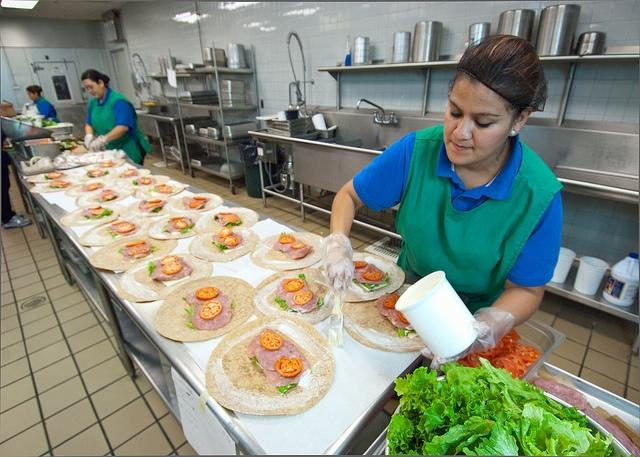lettuce: (422, 416, 496, 456), (393, 366, 447, 420), (548, 420, 590, 454), (474, 424, 518, 456), (497, 382, 522, 416), (441, 379, 476, 402), (118, 246, 159, 261), (521, 402, 544, 426), (468, 398, 489, 416), (274, 296, 294, 311), (84, 210, 113, 220), (278, 384, 296, 395), (398, 328, 417, 337), (178, 224, 194, 234), (252, 356, 263, 370), (212, 241, 228, 250), (360, 283, 376, 292), (99, 196, 118, 203), (183, 304, 194, 316), (42, 120, 58, 128), (299, 274, 308, 287), (315, 296, 324, 308), (225, 221, 242, 227), (184, 322, 195, 330), (148, 262, 154, 276), (87, 172, 95, 178), (111, 232, 117, 238), (153, 207, 160, 212), (50, 186, 66, 188), (197, 206, 204, 210), (214, 216, 219, 221), (132, 181, 138, 185), (281, 231, 285, 236)
tomato: (502, 352, 528, 378), (511, 343, 541, 364), (491, 357, 519, 379), (274, 356, 302, 377), (199, 300, 223, 320), (260, 330, 283, 350), (196, 286, 218, 300), (501, 328, 521, 343), (362, 268, 383, 282), (293, 291, 313, 305), (284, 278, 304, 292), (382, 294, 400, 309), (128, 244, 150, 256), (467, 352, 482, 368), (162, 262, 182, 274), (160, 254, 178, 265), (492, 340, 504, 356), (278, 234, 296, 244), (221, 236, 239, 246), (218, 226, 232, 238), (116, 224, 134, 233), (474, 348, 494, 356), (172, 220, 188, 229), (398, 311, 409, 324), (222, 214, 238, 222), (291, 242, 307, 250), (353, 261, 368, 269), (126, 240, 145, 246), (456, 358, 470, 366), (159, 186, 172, 194), (48, 172, 64, 178), (86, 183, 98, 191), (112, 220, 130, 225), (92, 208, 104, 215), (188, 202, 202, 208), (124, 168, 134, 176), (102, 193, 115, 199), (170, 216, 184, 221), (140, 179, 152, 184), (88, 206, 101, 210), (193, 197, 206, 201), (146, 204, 158, 208), (58, 181, 70, 185), (150, 199, 162, 203), (218, 212, 232, 215), (156, 184, 166, 186)
